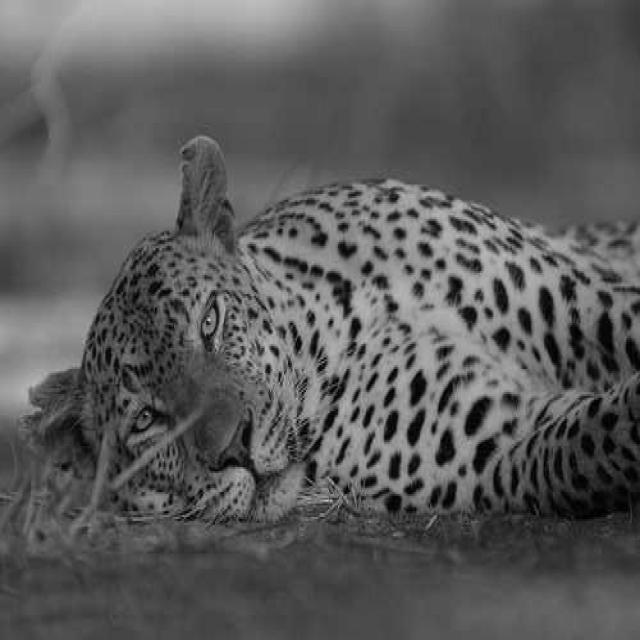Leopard: (19, 133, 639, 534)
